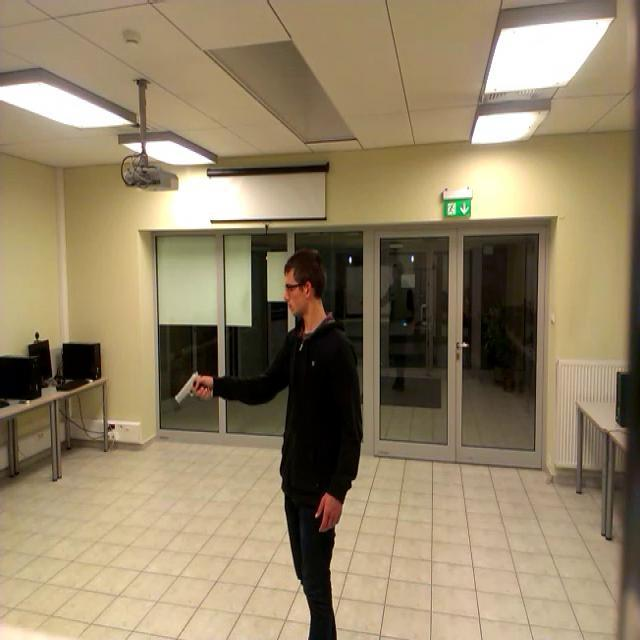Gun: (174, 369, 212, 404)
